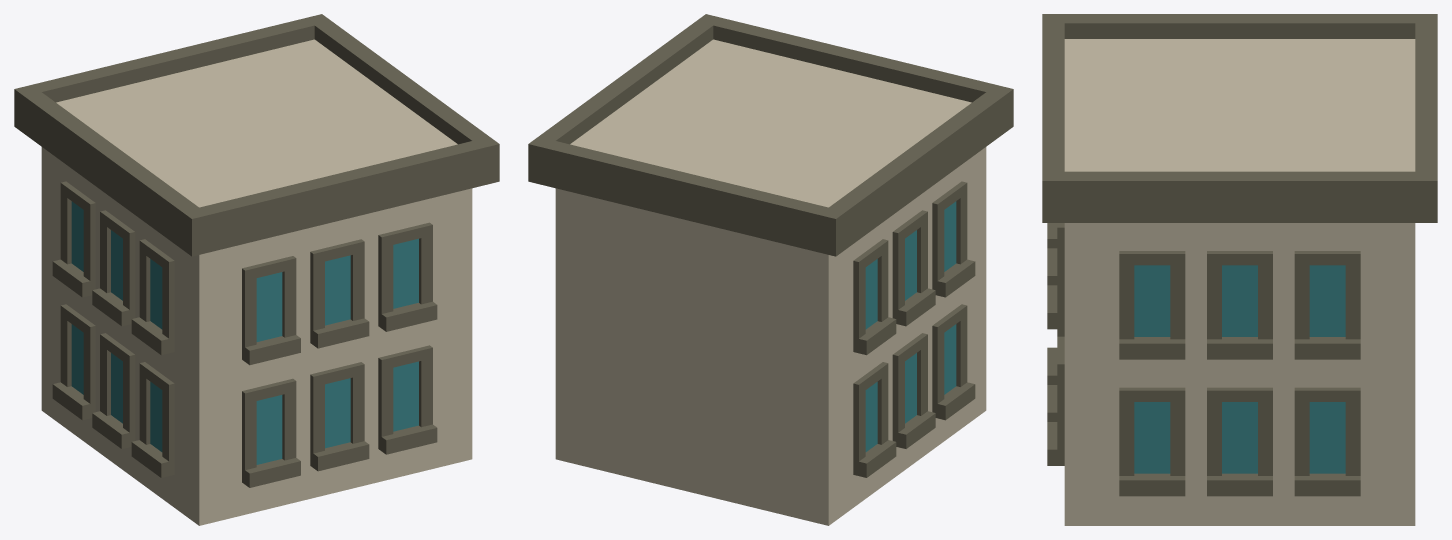
Rendered from Immeuble_2.fbx.
3 renders of one model, left to right at view 1: azimuth 30°, elevation 25°; view 2: azimuth 150°, elevation 25°; view 3: azimuth 270°, elevation 25°, orthographic. The views are drawn at different scales.
Parts seen in each view (by area): view 1: immeuble2; view 2: immeuble2; view 3: immeuble2.
Boxes of the visible parts, x1,y1,x2,y2 form: immeuble2: (14,14,499,525); immeuble2: (528,14,1013,525); immeuble2: (1042,14,1437,525).
Size of the model in its own units: 59.04 by 58.38 by 59.04.
